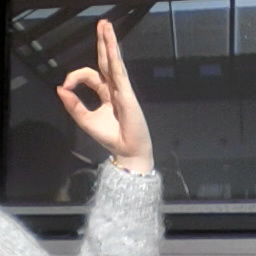O: (56, 18, 167, 168)
